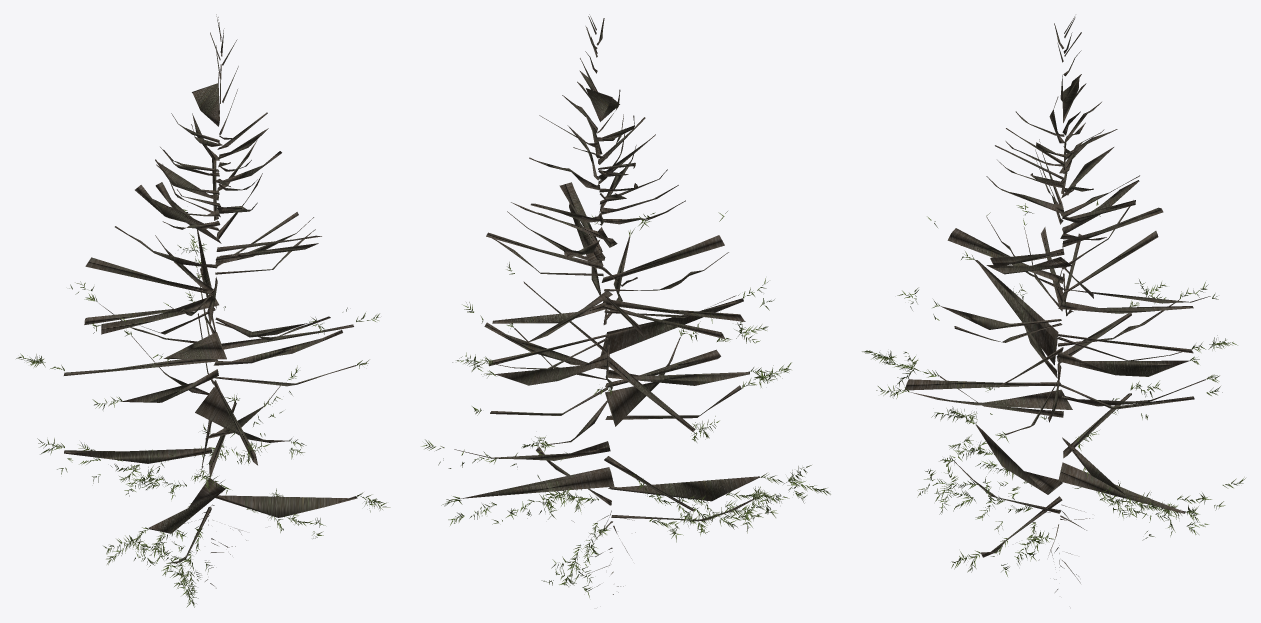
File: fir_medium_a_lodfar.gltf
The picture shows the model from 3 angles, left to right: view 1: azimuth 30°, elevation 25°; view 2: azimuth 150°, elevation 25°; view 3: azimuth 270°, elevation 25°; orthographic projection. The views are drawn at different scales.
Visible parts, largest first — view 1: fir_sapling_medium_a_LOD0.001, fir_sapling_medium_a_LOD0.002; view 2: fir_sapling_medium_a_LOD0.001, fir_sapling_medium_a_LOD0.002; view 3: fir_sapling_medium_a_LOD0.001, fir_sapling_medium_a_LOD0.002.
Part boxes in pixels (box(x1,y1,x2,y2)): fir_sapling_medium_a_LOD0.001: box(63, 14, 357, 563); fir_sapling_medium_a_LOD0.002: box(16, 209, 390, 607); fir_sapling_medium_a_LOD0.001: box(454, 14, 759, 520); fir_sapling_medium_a_LOD0.002: box(421, 211, 830, 597); fir_sapling_medium_a_LOD0.001: box(904, 16, 1210, 557); fir_sapling_medium_a_LOD0.002: box(862, 200, 1245, 576).
Size of the model in its own units: 4.71 by 8.35 by 4.9.
Materials: 3 (3 with a texture image).
